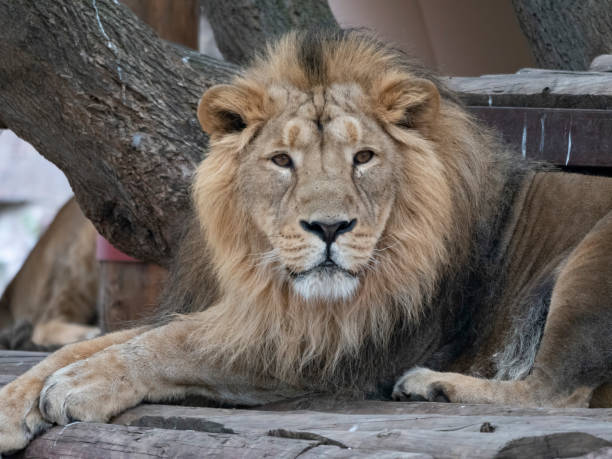lion: (152, 20, 495, 402)
